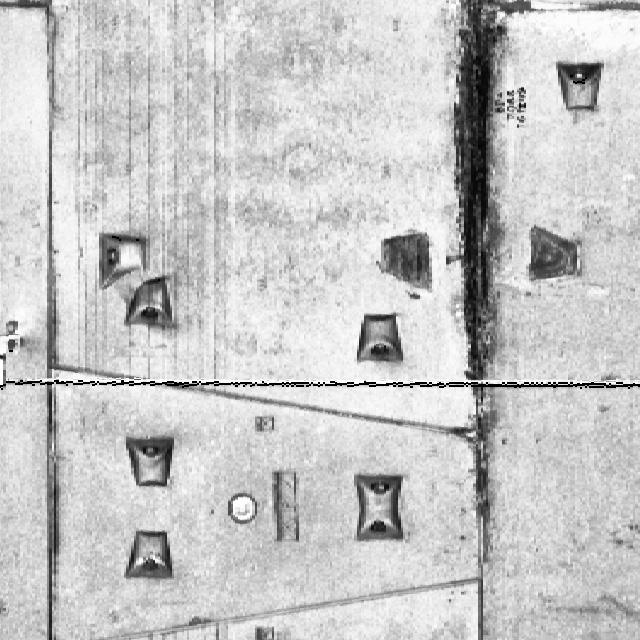leakage: (442, 0, 515, 549)
